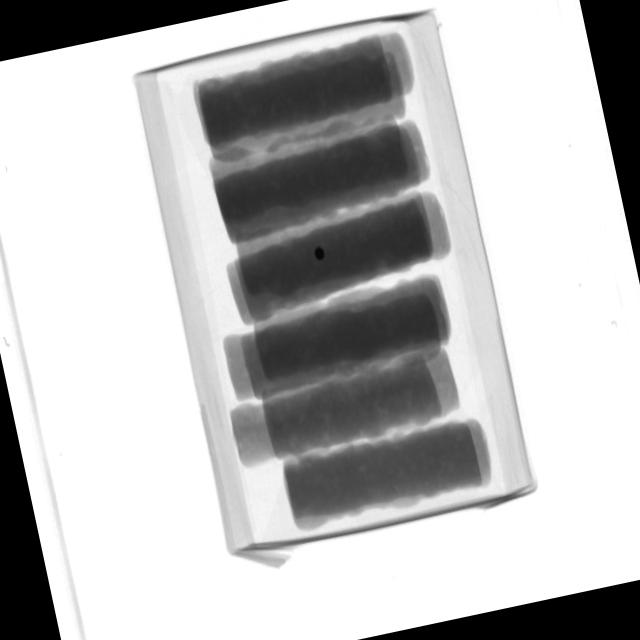ym: (314, 247, 326, 262)
